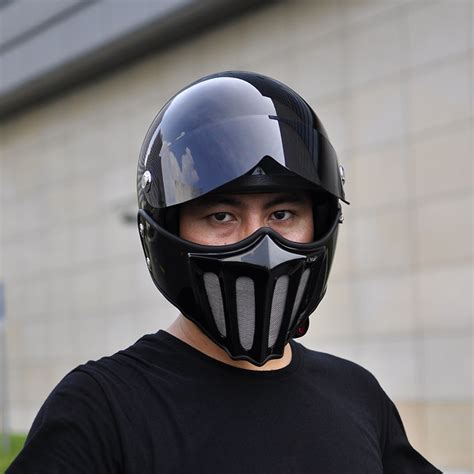com_capacete: (123, 69, 355, 368)
